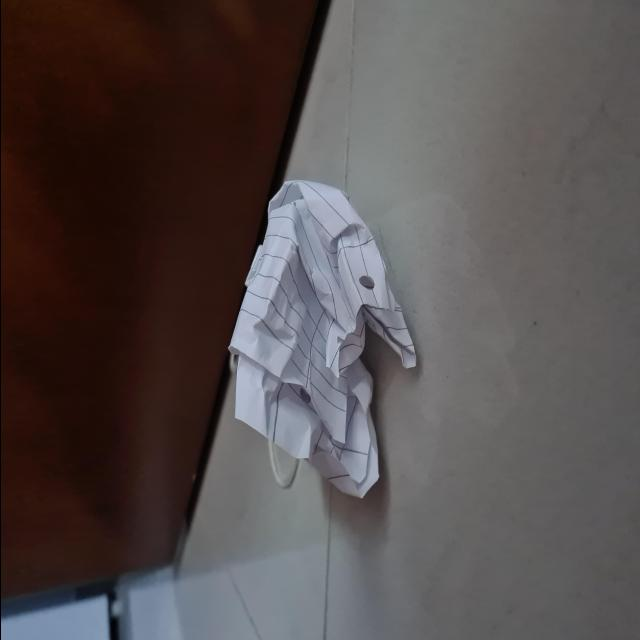kertas: (225, 176, 417, 498)
